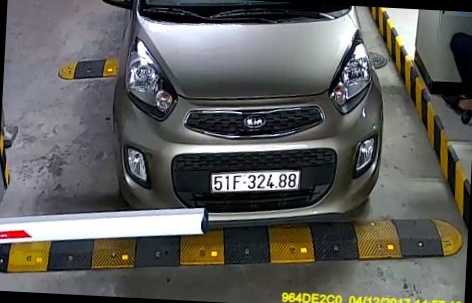plate: (206, 167, 302, 195)
